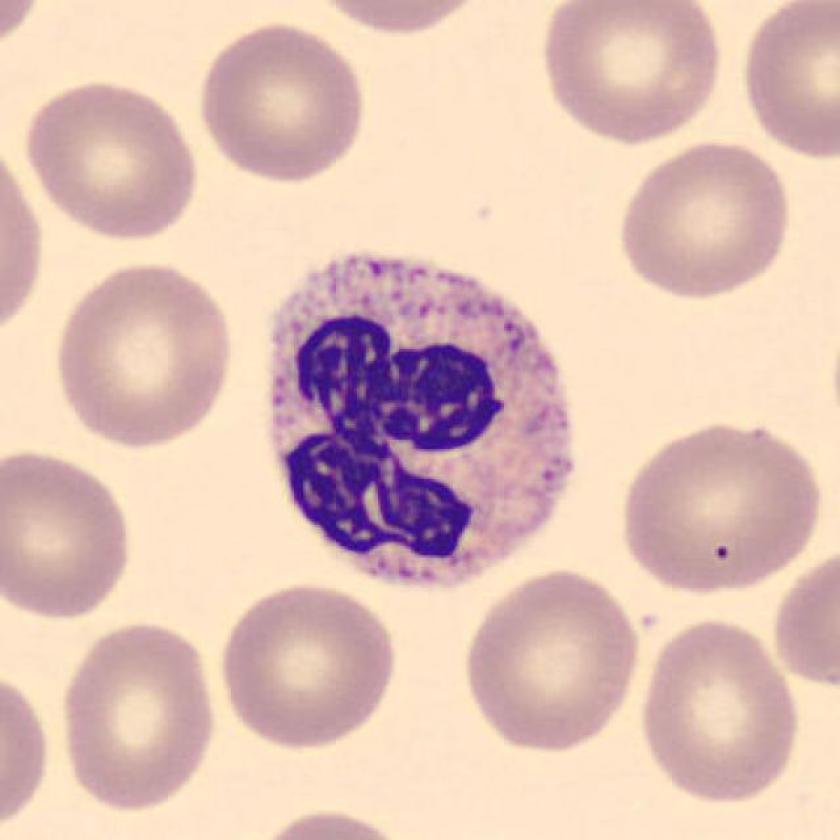neutrophil: (272, 256, 574, 588)
